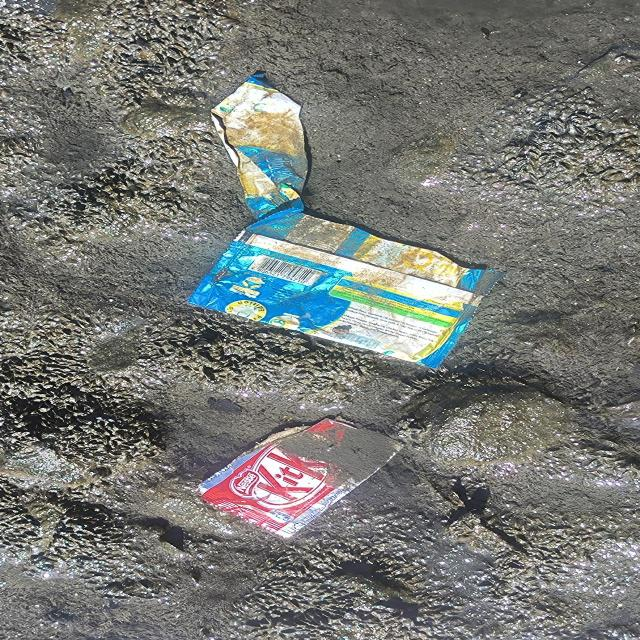plastic_waste: (189, 210, 509, 372), (196, 416, 408, 542)
